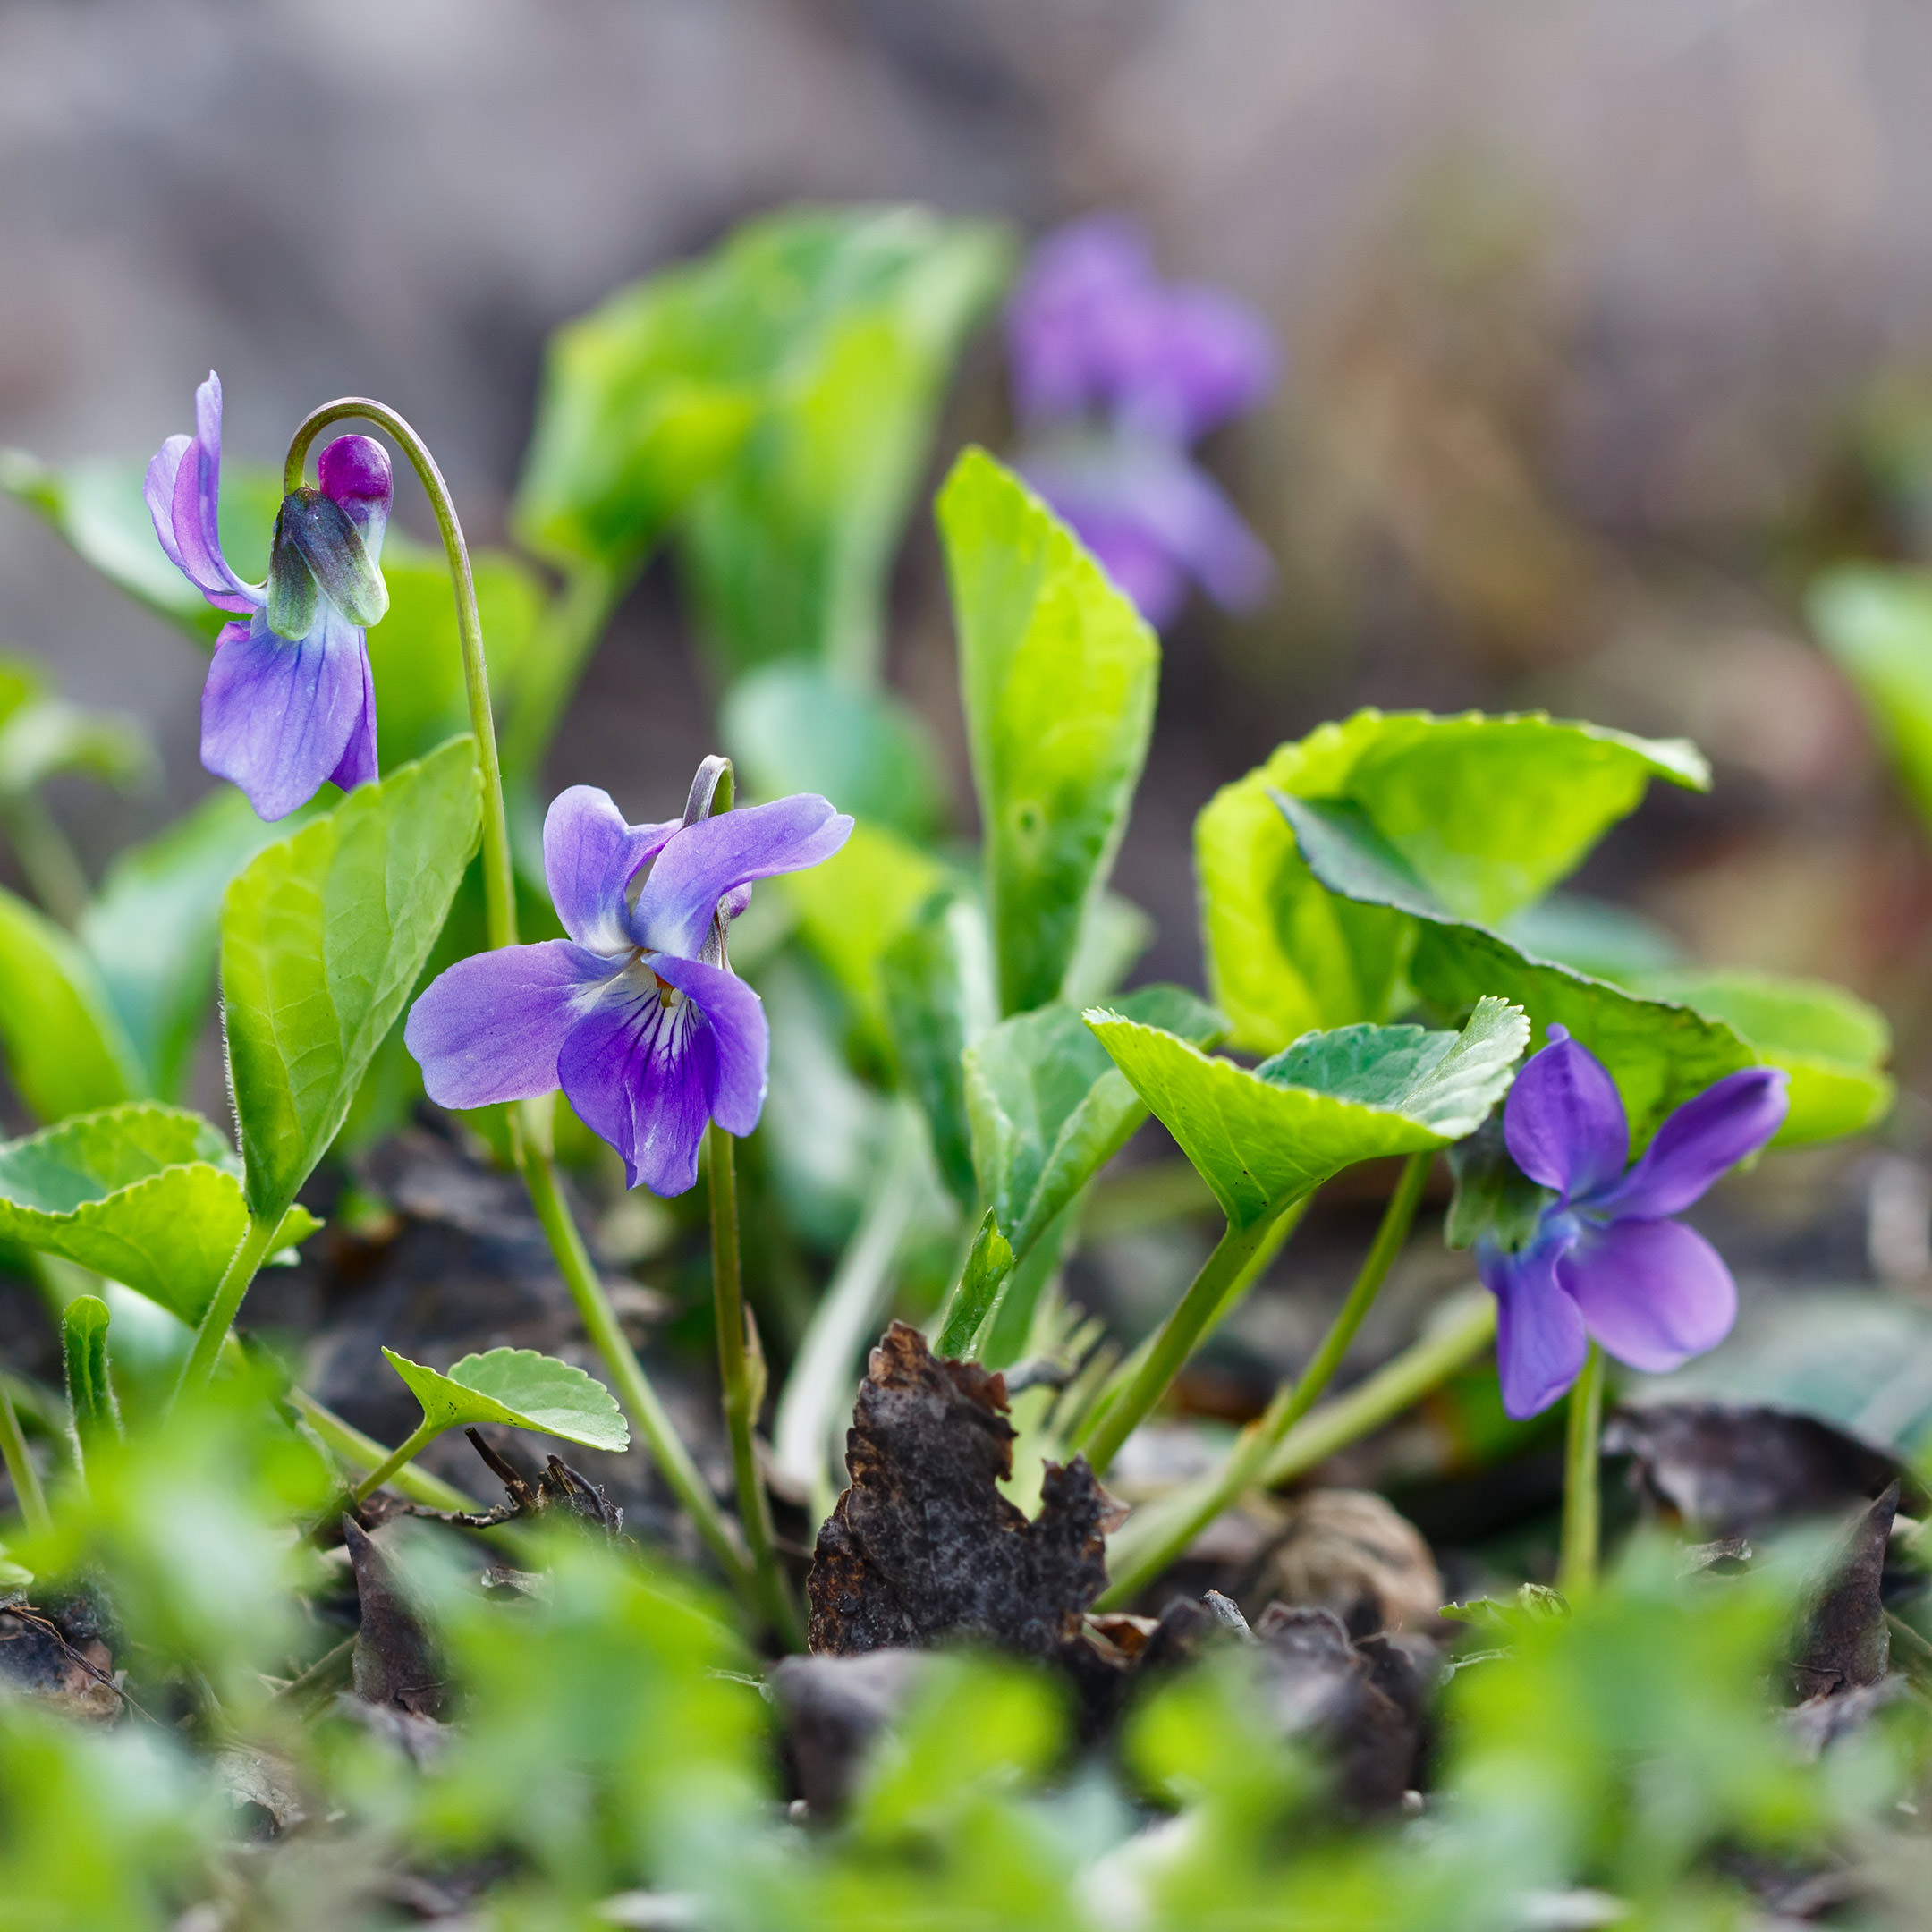violet: (402, 740, 805, 1269), (69, 412, 453, 809), (1414, 1042, 1778, 1428)
